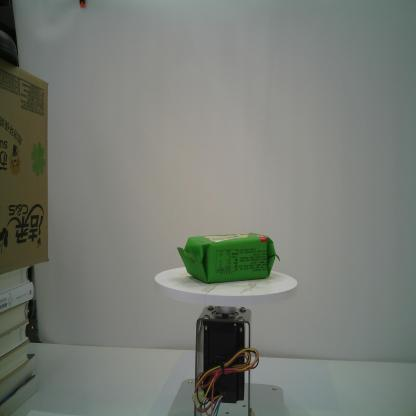Dessert: (175, 232, 281, 286)
